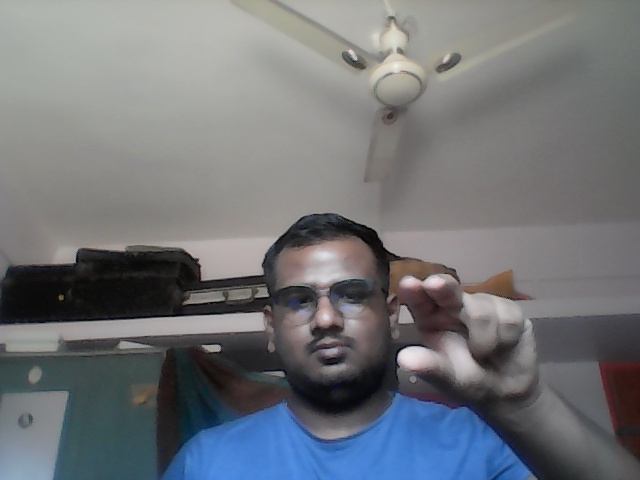No: (393, 272, 545, 406)
